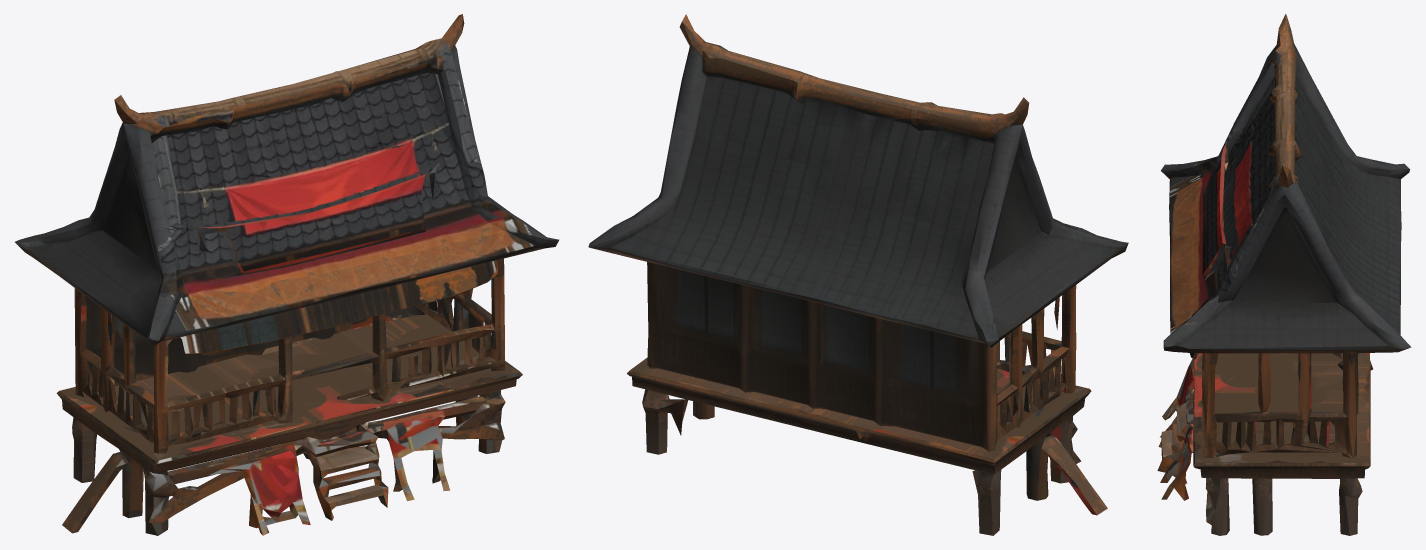
The model's file is ayutthaya_campo_tiro.glb.
3 views of the same model, side by side, from view 1: azimuth 30°, elevation 25°; view 2: azimuth 150°, elevation 25°; view 3: azimuth 270°, elevation 25° (orthographic). The views are drawn at different scales.
Parts seen in each view (by area): view 1: geometry_0; view 2: geometry_0; view 3: geometry_0.
Boxes of the visible parts, bbox=[...] form: geometry_0: bbox=[15, 14, 559, 535]; geometry_0: bbox=[588, 14, 1128, 535]; geometry_0: bbox=[1157, 14, 1411, 535].
Bounding box in the file's own units: 2.4 × 2.14 × 1.33.
1 material, 1 textured.
